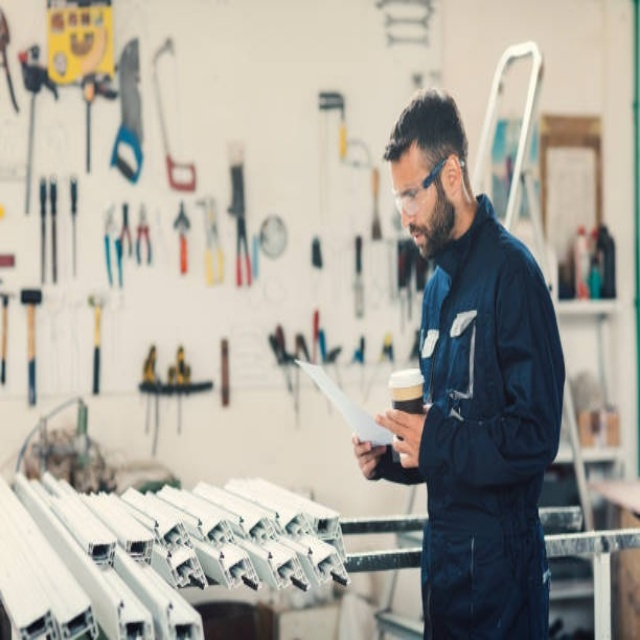Gafas: (392, 155, 458, 217)
Sin_guantes: (370, 402, 422, 472), (351, 423, 399, 481)
Sin_mascara: (409, 224, 432, 257)
